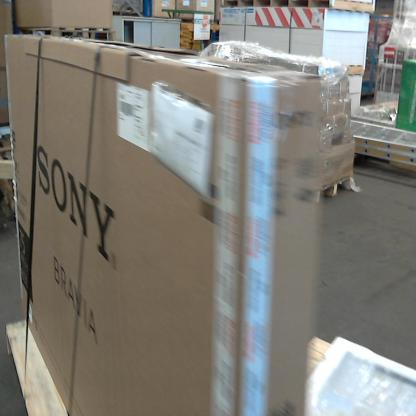pallet: (4, 315, 70, 412), (24, 21, 115, 47), (311, 170, 364, 211), (221, 3, 378, 13)
